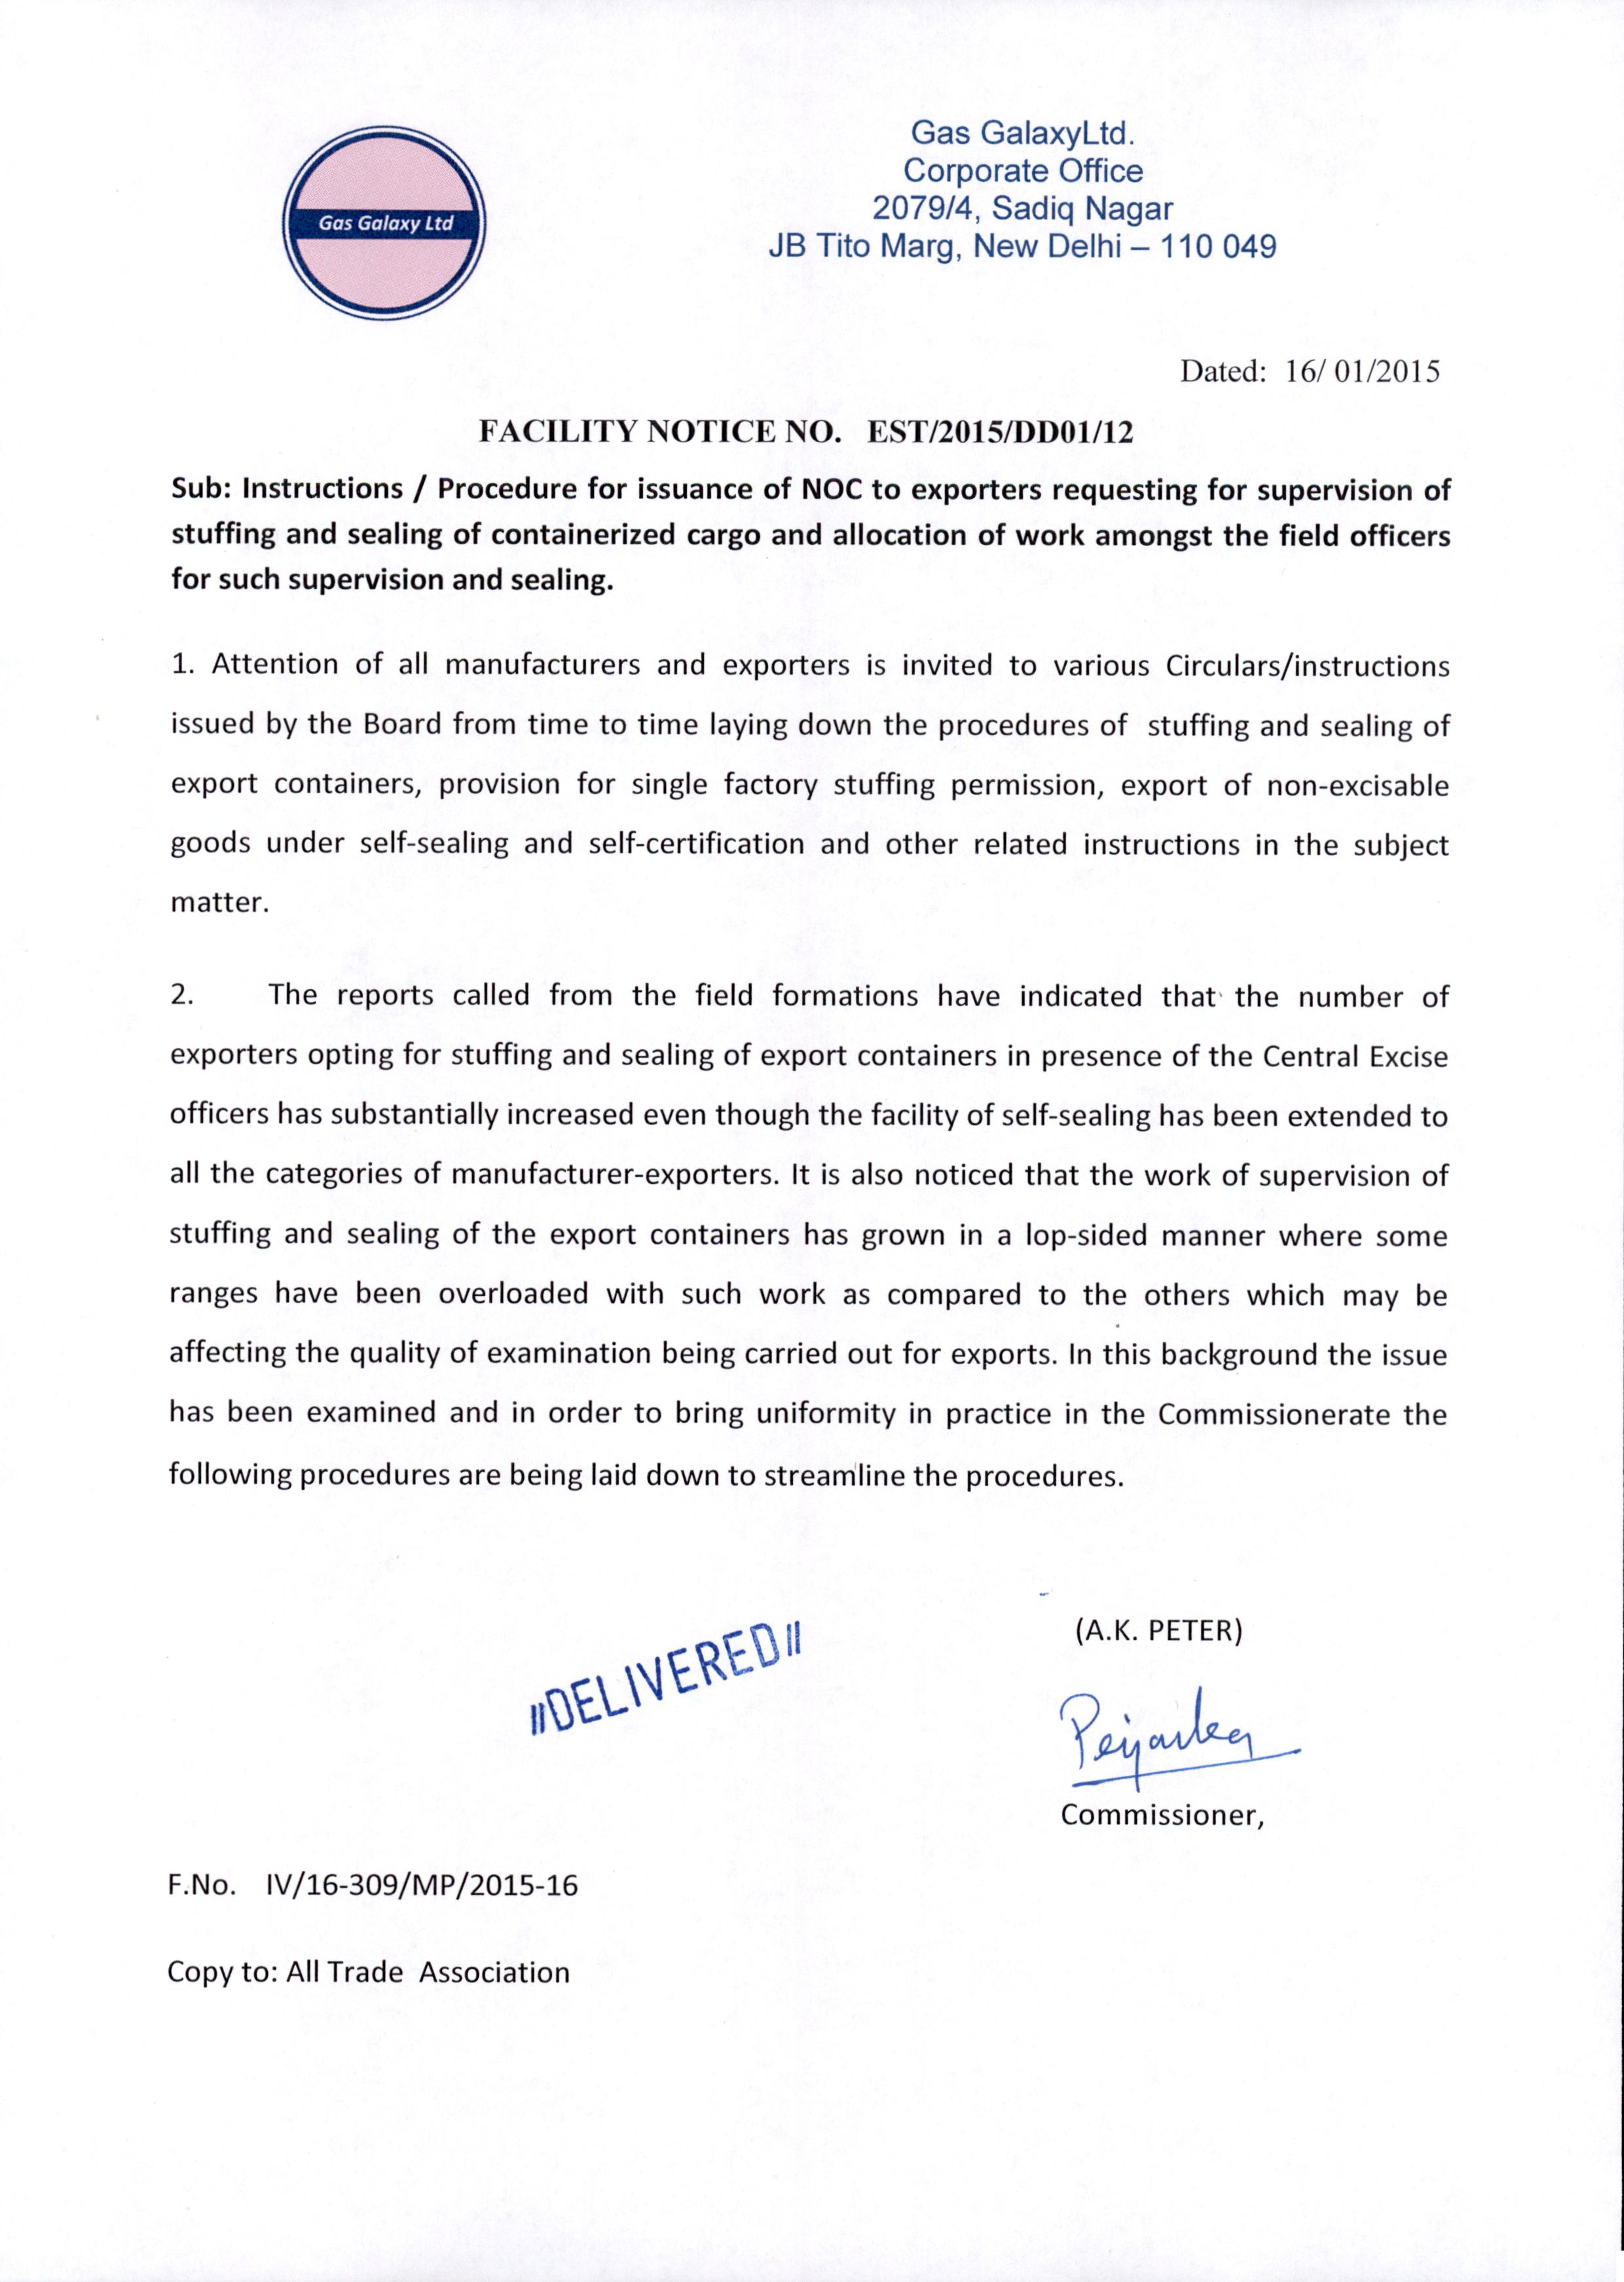Signature: (1049, 1672, 1316, 1797)
